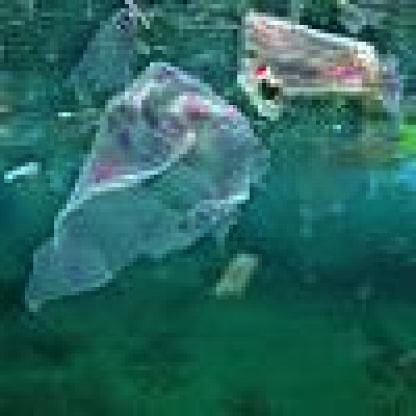pbag: (16, 58, 274, 312), (237, 8, 404, 129)
